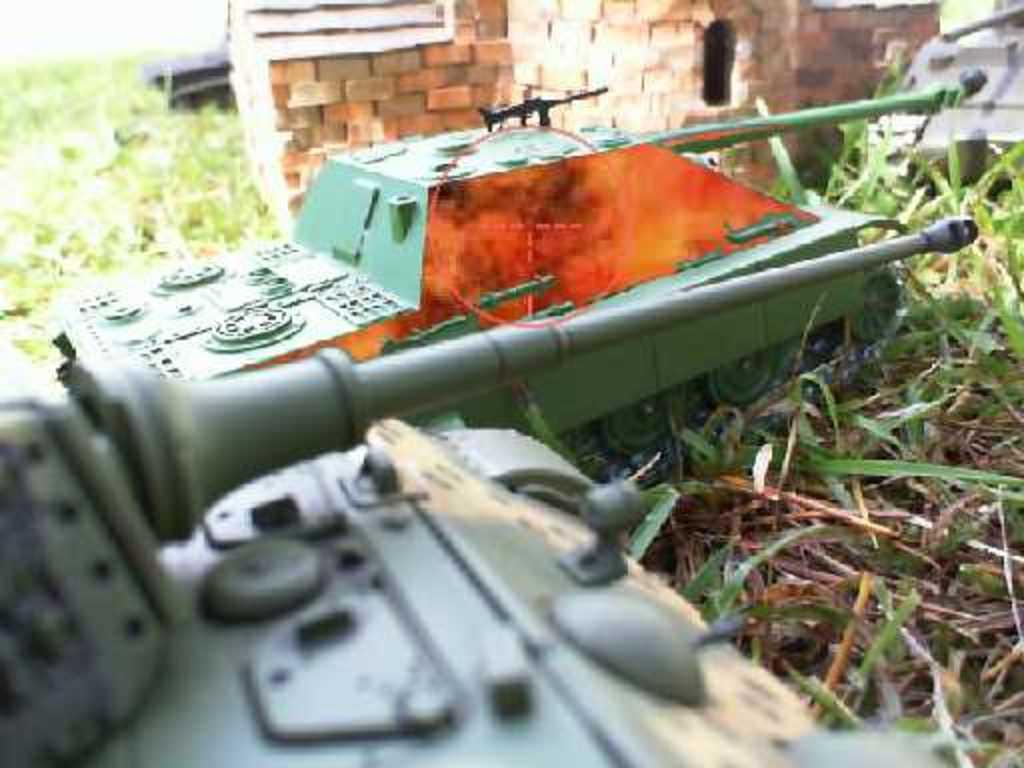Tank: (0, 208, 984, 766), (54, 72, 992, 444), (858, 0, 1022, 190)
